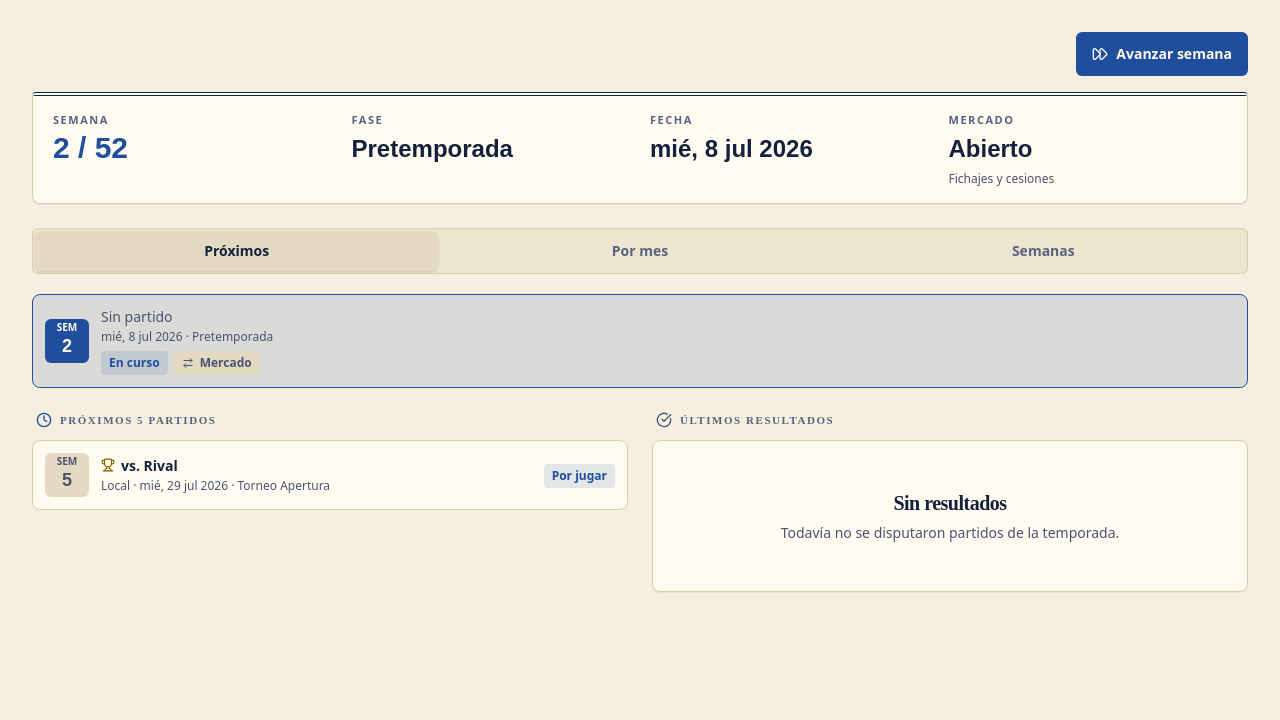
pantalla Calendario › filtra por partidos y por mercado
Click the radio button labelled "Semanas" at (1043, 250), box [842,230,1245,270]
(page scrolled)
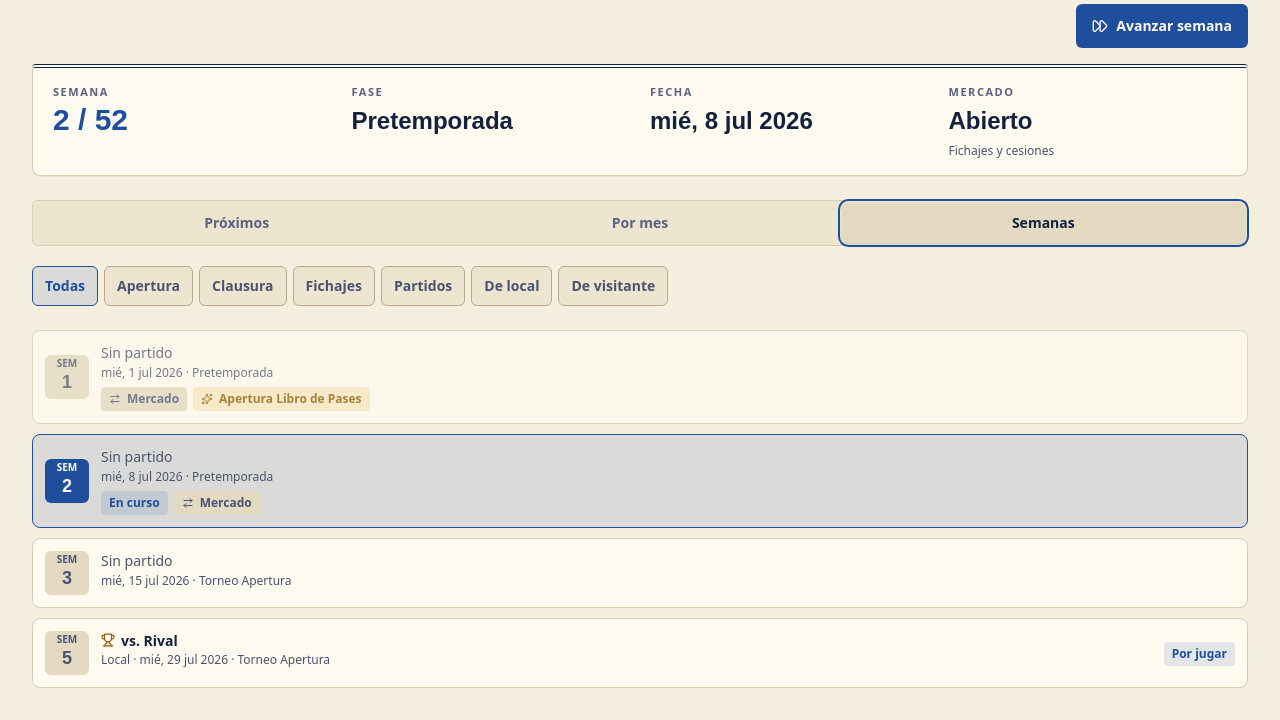
Click the radio button labelled "Partidos" at (423, 286), box [381,266,465,306]
(page scrolled)
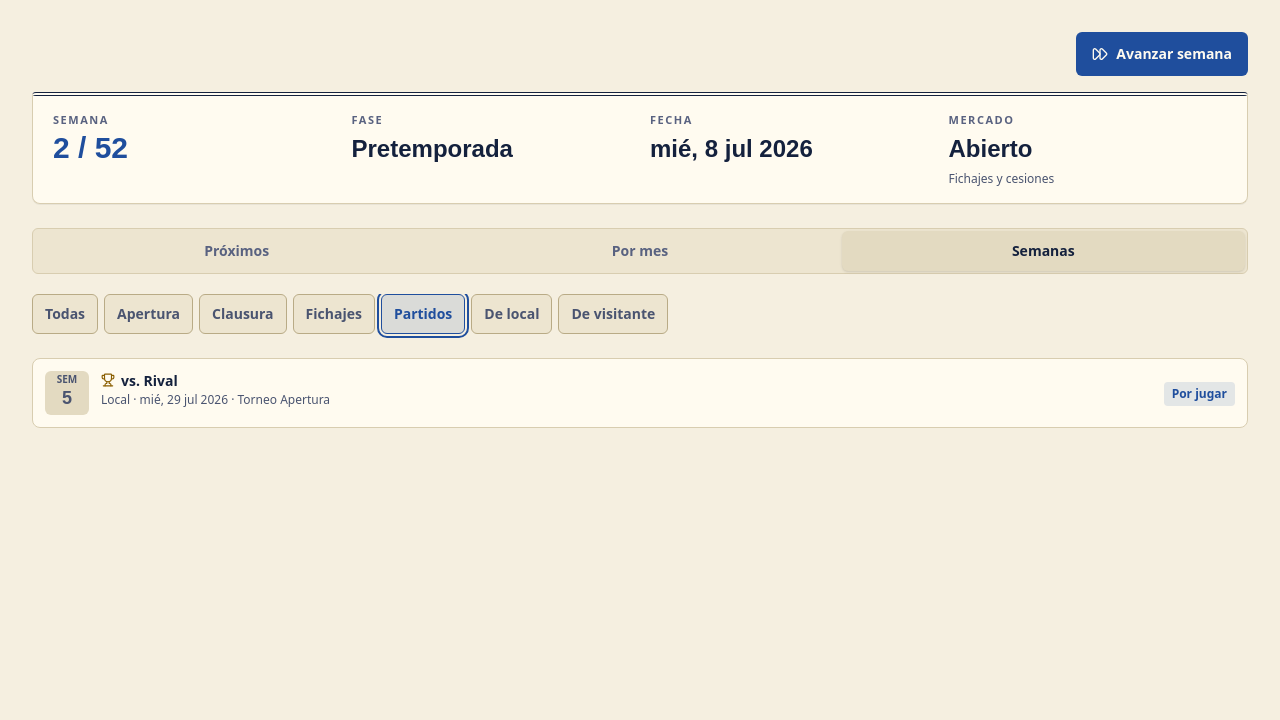
Check: the number of list items is 1, box [32,358,1248,428]
Click the radio button labelled "Fichajes" at (334, 314), box [293,294,375,334]
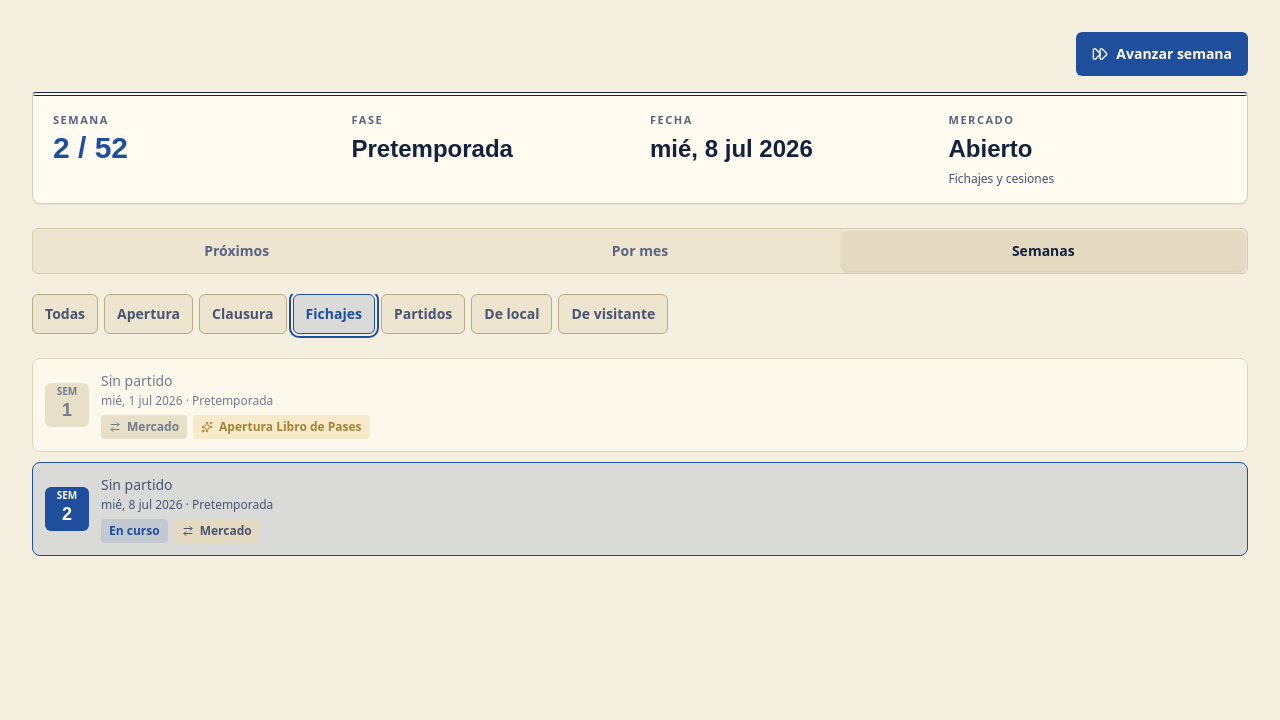
Check: the number of list items is 2, box [32,358,1248,452]; [32,462,1248,556]
